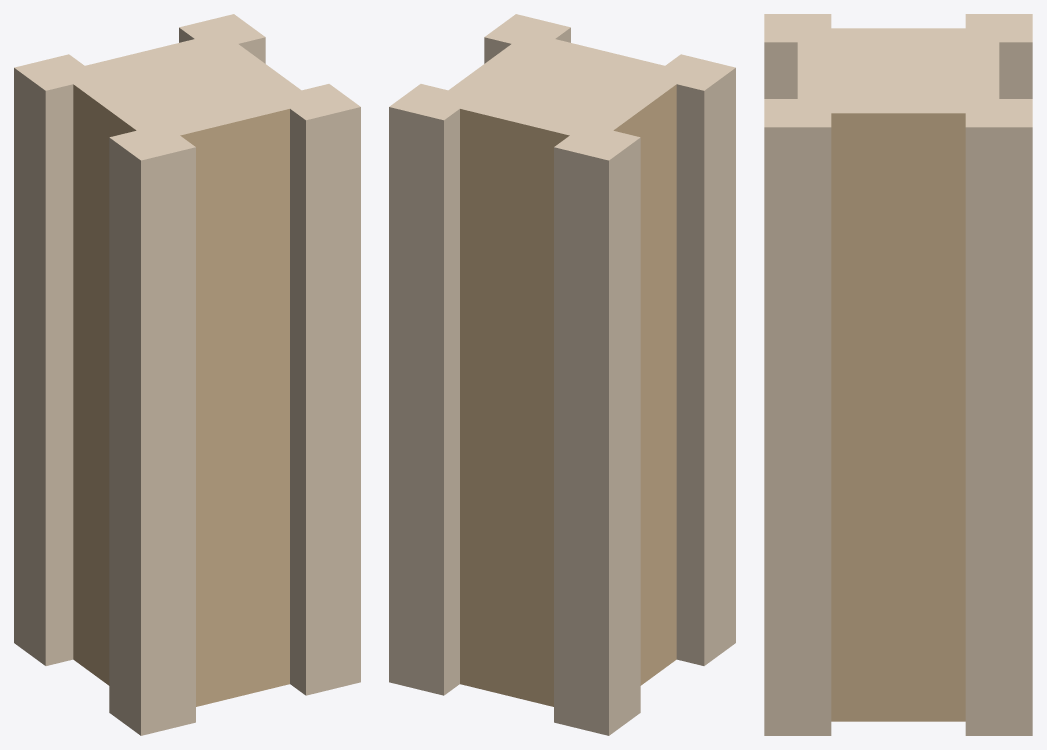
File: Puzzle_Sliding_Pillar.glb
3 views of the same model, side by side, from view 1: azimuth 30°, elevation 25°; view 2: azimuth 150°, elevation 25°; view 3: azimuth 270°, elevation 25° (orthographic). The views are drawn at different scales.
Visible parts, largest first — view 1: Puzzle_Sliding_Pillar; view 2: Puzzle_Sliding_Pillar; view 3: Puzzle_Sliding_Pillar.
Part boxes in pixels (x1,y1,x2,y2): Puzzle_Sliding_Pillar: (14, 14, 360, 735); Puzzle_Sliding_Pillar: (389, 14, 735, 735); Puzzle_Sliding_Pillar: (764, 14, 1032, 735).
Bounding box in the file's own units: 0.4 × 1 × 0.4.
